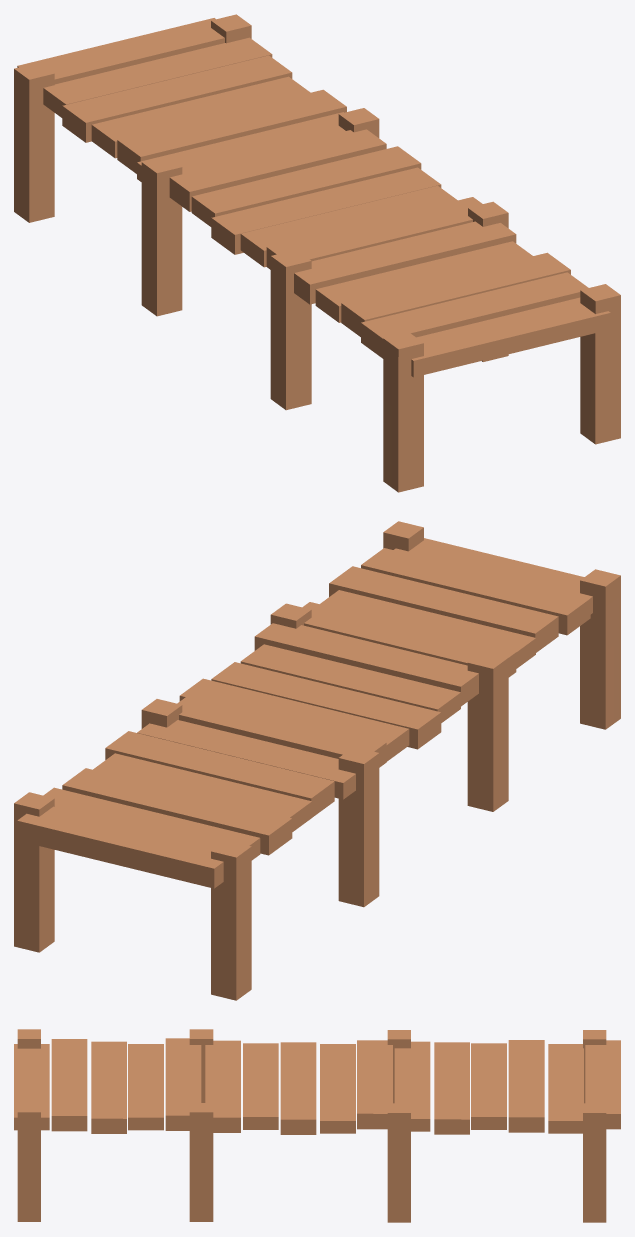
The model's file is zhuangshi_19.FBX.
3 renders of one model, top to bottom at view 1: azimuth 30°, elevation 25°; view 2: azimuth 150°, elevation 25°; view 3: azimuth 270°, elevation 25°, orthographic. The views are drawn at different scales.
Visible parts, largest first — view 1: zhuangshi_19; view 2: zhuangshi_19; view 3: zhuangshi_19.
Part boxes in pixels (<box>): zhuangshi_19: <box>14,14,620,492</box>; zhuangshi_19: <box>14,521,620,1000</box>; zhuangshi_19: <box>14,1029,620,1222</box>.
Size of the model in its own units: 874 by 540 by 2696.
